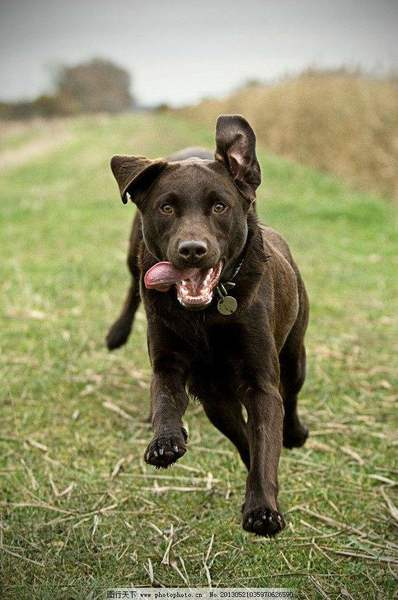dog: (99, 100, 319, 334)
